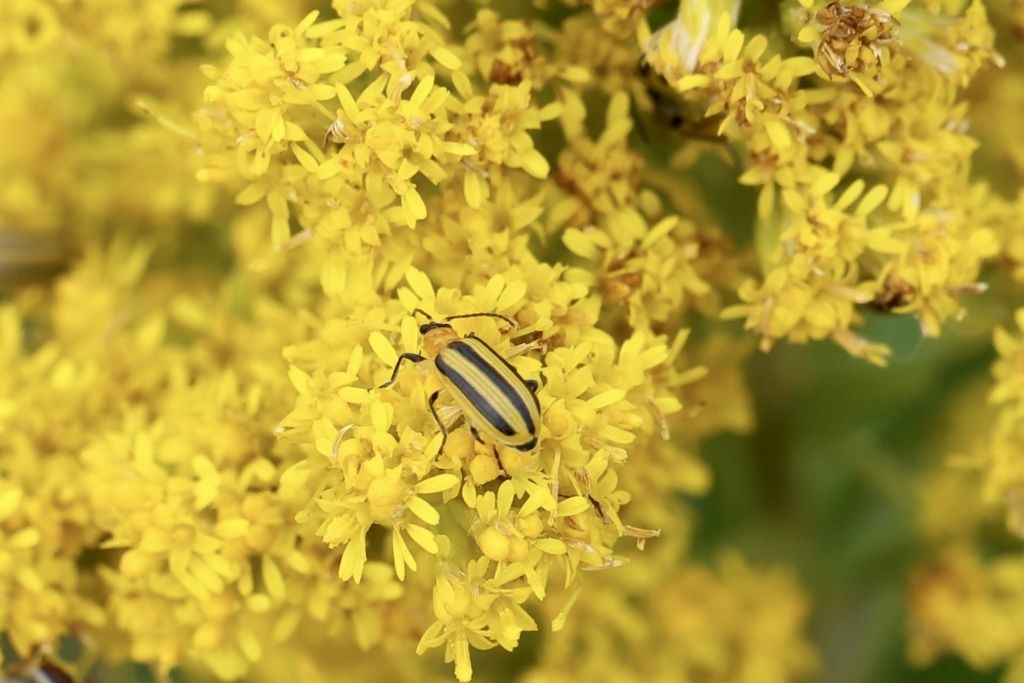potato_beetle: (302, 244, 658, 560)
